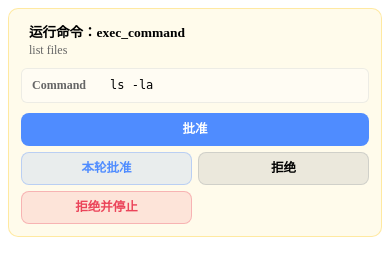
Test: ApprovalCard - F.2 按钮处理中态 › 点击后：当前按钮带 approvalBtn_processing class + spinner
The image size is (390, 255).
Click the button with class "approvalBtn" showing "批准". click: (195, 130)
box: [21,113,369,146]
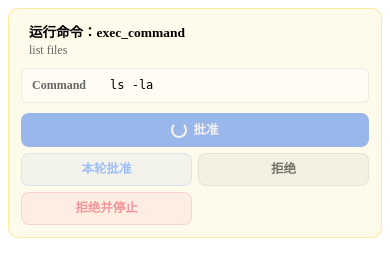
Result: the element with class "approvalBtnSpinner" is shown at [172,122,188,138]
